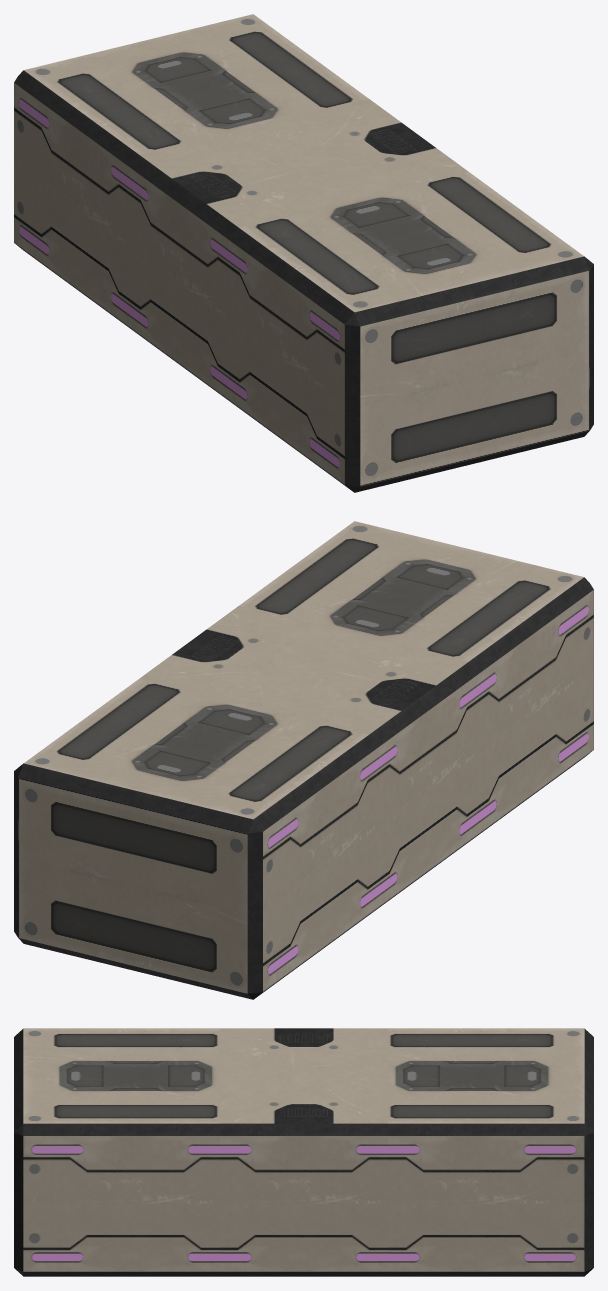
Rendered from CratePanelLong.fbx.
The picture shows the model from 3 angles, top to bottom: view 1: azimuth 30°, elevation 25°; view 2: azimuth 150°, elevation 25°; view 3: azimuth 270°, elevation 25°; orthographic projection. The views are drawn at different scales.
Visible parts, largest first — view 1: CratePanelLong; view 2: CratePanelLong; view 3: CratePanelLong.
Boxes of the visible parts, <box> form: CratePanelLong: <box>14,14,593,492</box>; CratePanelLong: <box>14,521,593,999</box>; CratePanelLong: <box>14,1028,593,1276</box>.
Bounding box in the file's own units: 46.06 × 31.9 × 110.
